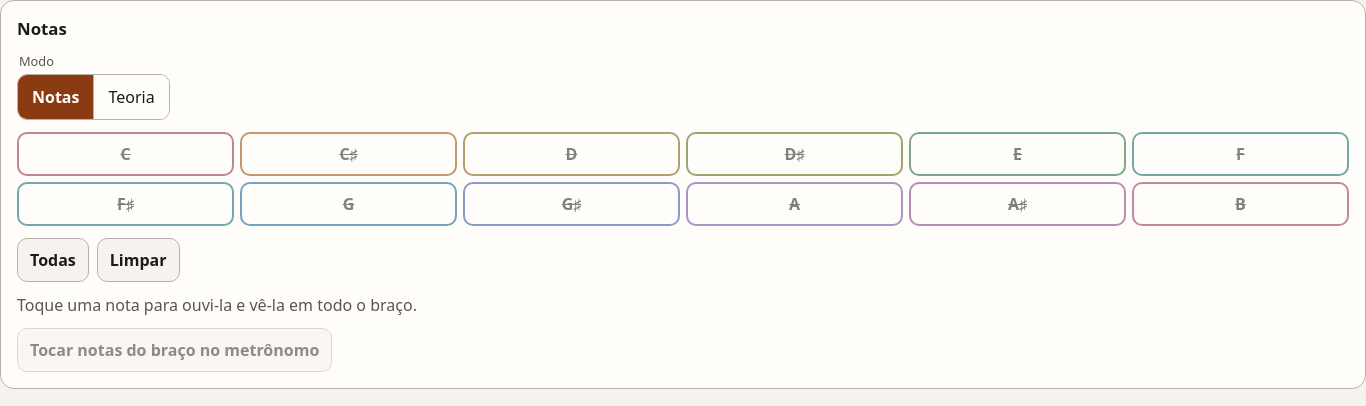
Scenario: PainelNotas: modo teoria › a nota ligada no modo Notas chega na Teoria como tônica
Click the button "D": (572,154) x1=463 y1=132 x2=680 y2=176
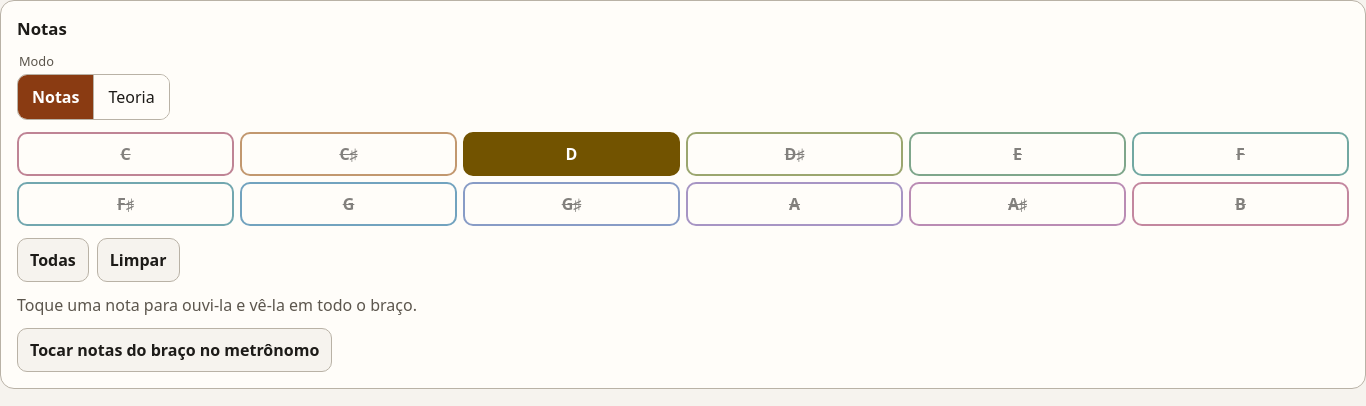
Click the radio button named "modo": (132,97) x1=94 y1=75 x2=169 y2=119
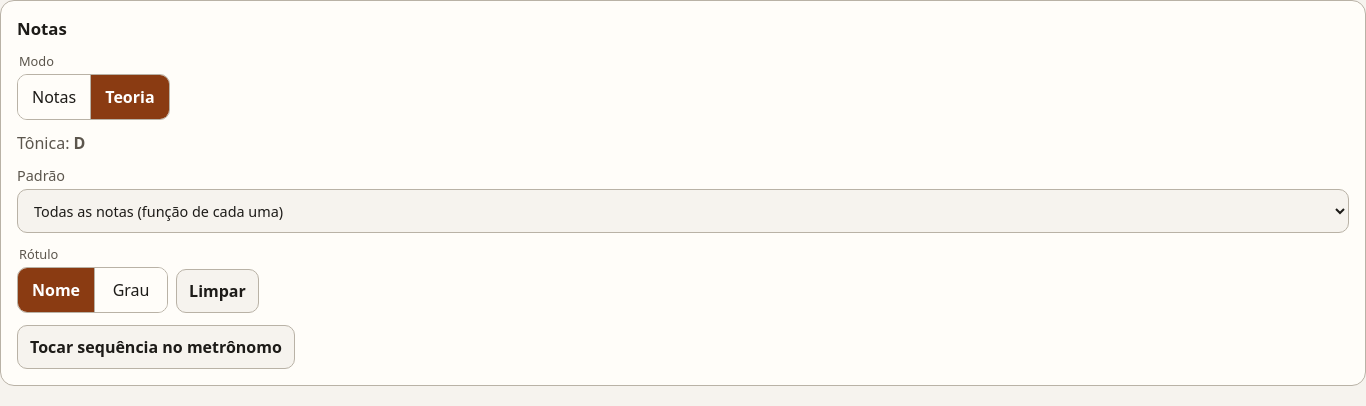
Expected: the element with class "dica" reads "Tônica: D", x1=17 y1=132 x2=85 y2=154
